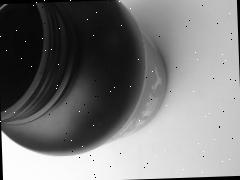plastic: (0, 0, 236, 180)
